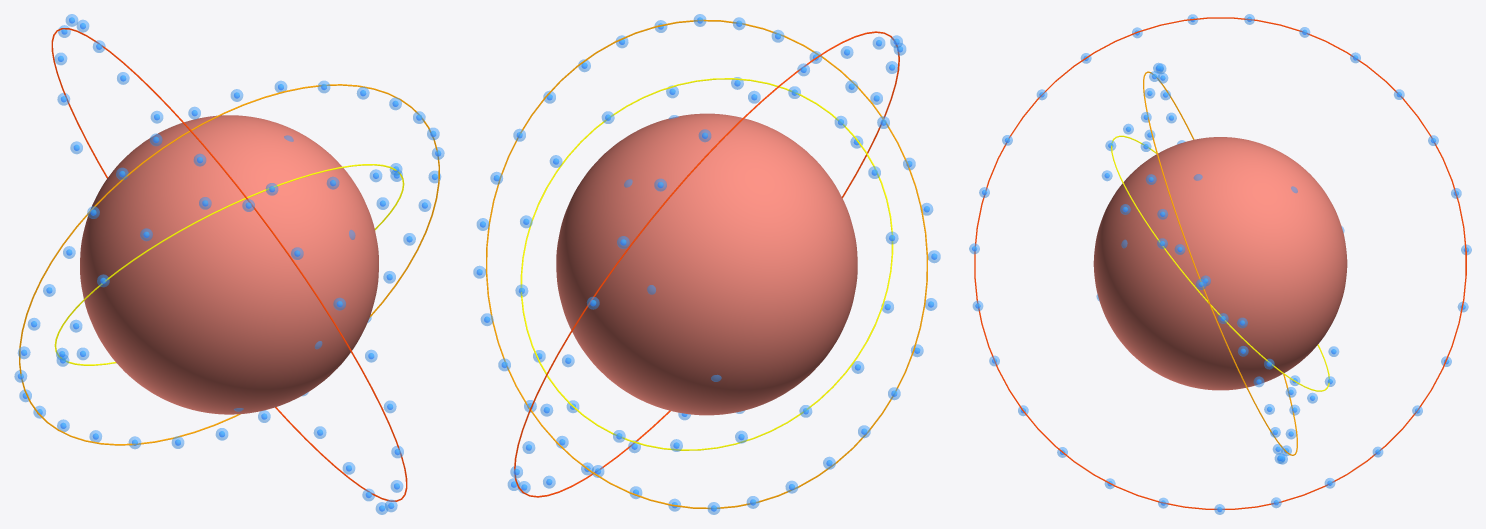
The picture shows the model from 3 angles, left to right: view 1: azimuth 30°, elevation 25°; view 2: azimuth 150°, elevation 25°; view 3: azimuth 270°, elevation 25°; orthographic projection. The views are drawn at different scales.
Visible parts, largest first — view 1: Fr, object 61, object 126, object 24; view 2: Fr, object 61, object 24, object 126; view 3: Fr, object 126, object 61, object 24.
Boxes of the visible parts, x1,y1,x2,y2 form: Fr: (80,115,378,414); object 61: (19,84,439,445); object 126: (51,28,407,501); object 24: (54,164,404,365); Fr: (556,113,857,415); object 61: (485,19,928,509); object 24: (520,78,893,450); object 126: (514,31,899,497); Fr: (1093,137,1347,390); object 126: (974,17,1466,509); object 61: (1143,71,1297,455); object 24: (1111,135,1329,391).
Bounding box in the file's own units: 6.13 × 6.52 × 7.36.
